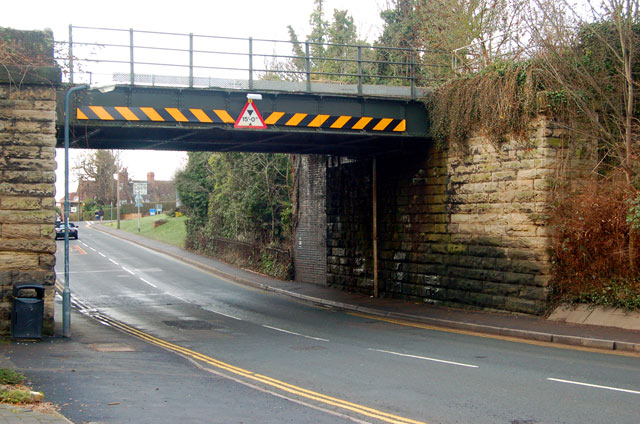bridge: (53, 23, 441, 154)
